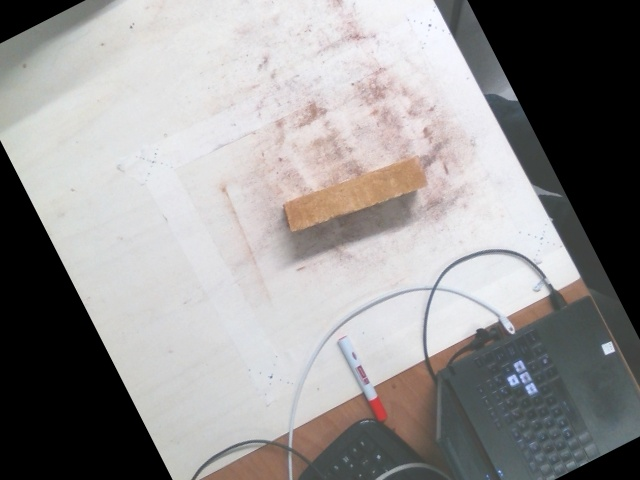brick-side: (285, 158, 428, 228)
